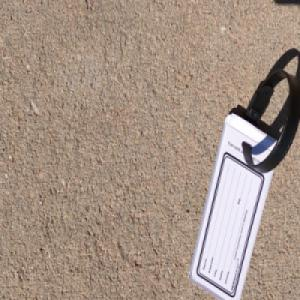LuggageTag: (187, 66, 299, 294)
